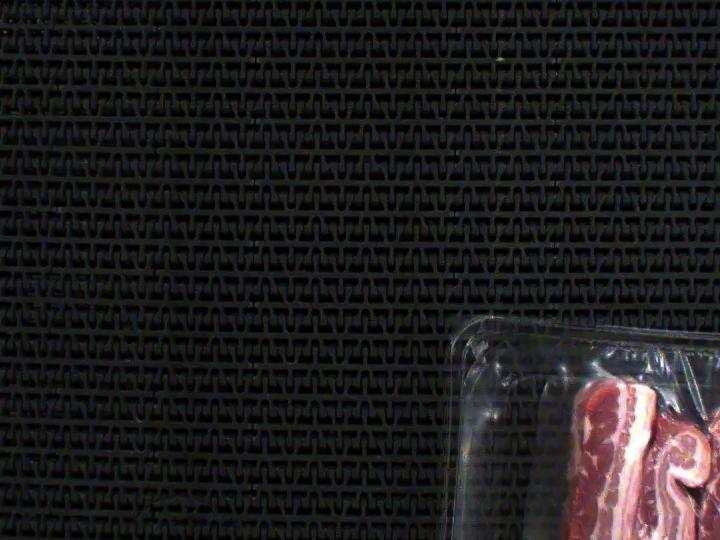unsealed: (515, 327, 720, 540)
